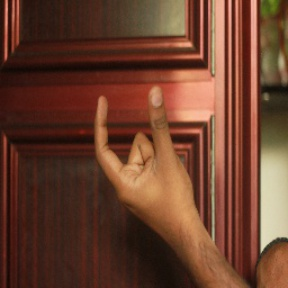U: (84, 81, 196, 216)
